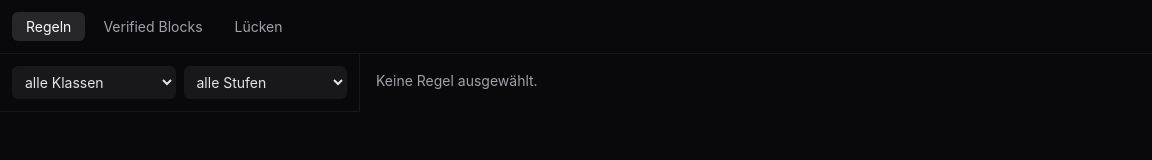
WissensPanel › wechselt zur Lücken-Tabelle
This screenshot has width=1152, height=160.
Click the button "Lücken". click: [259, 26]
box: [221, 12, 297, 41]
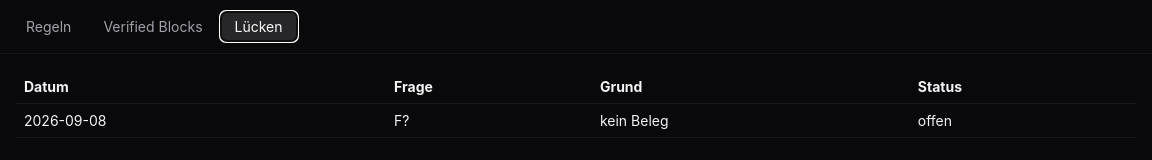
Now the text "kein Beleg" is shown, box [600, 112, 668, 129]
